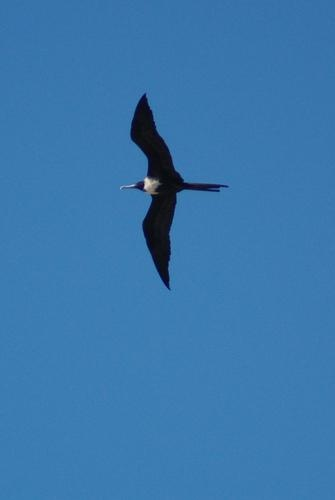bird: (111, 91, 230, 296)
